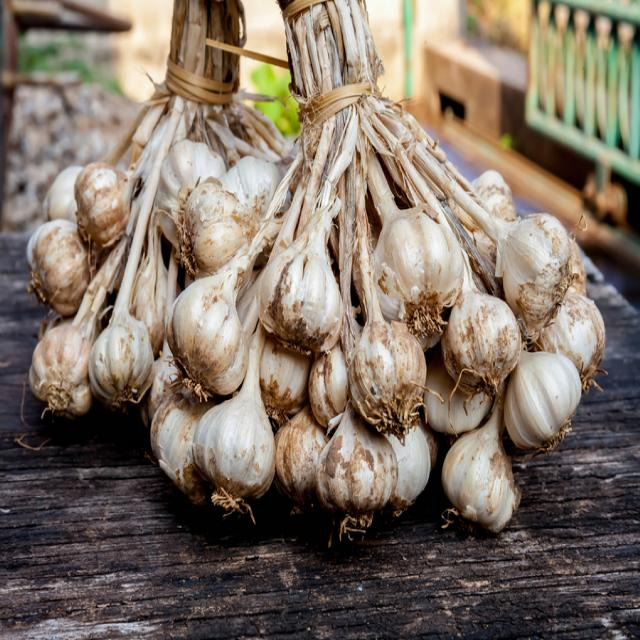garlic: (258, 228, 342, 348), (374, 209, 462, 316), (168, 277, 246, 396), (192, 388, 272, 503), (350, 314, 424, 431), (315, 426, 392, 536), (503, 204, 577, 318), (443, 435, 523, 530), (505, 351, 579, 452), (28, 316, 94, 421), (178, 177, 254, 268), (446, 292, 516, 388), (90, 302, 155, 399), (25, 218, 89, 308)
